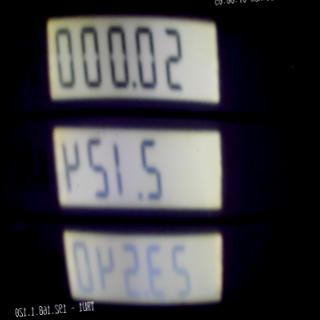screen: (35, 0, 248, 320)
